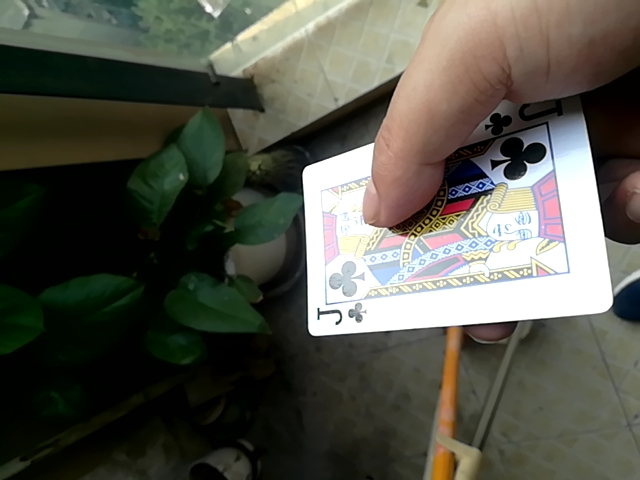mh j: (298, 99, 618, 334)
